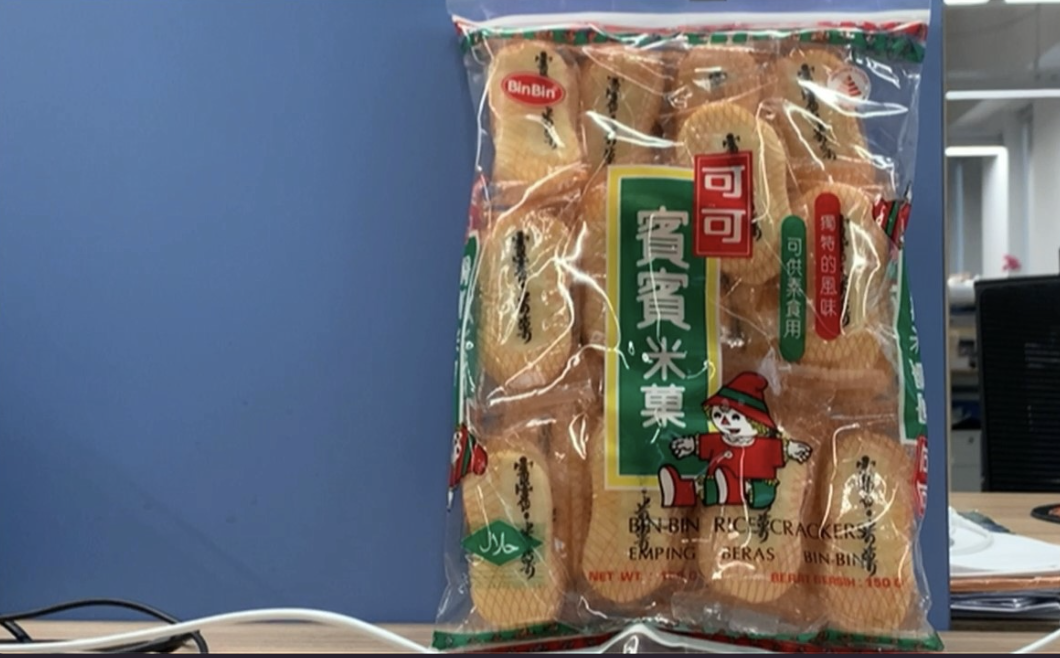crackers_150g: (475, 42, 924, 607)
